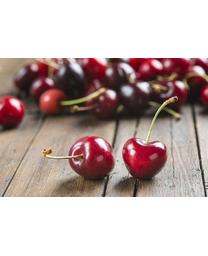cherry: (69, 136, 115, 181), (122, 137, 167, 181)
